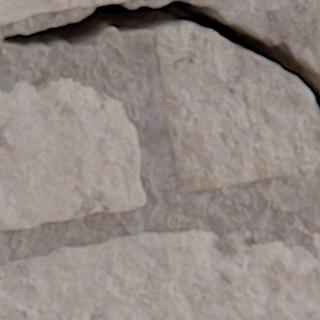brick: (0, 228, 319, 319), (0, 78, 144, 229), (0, 0, 126, 25)
broken_brick: (155, 23, 319, 190), (223, 2, 319, 75)
crack: (0, 0, 319, 110)
